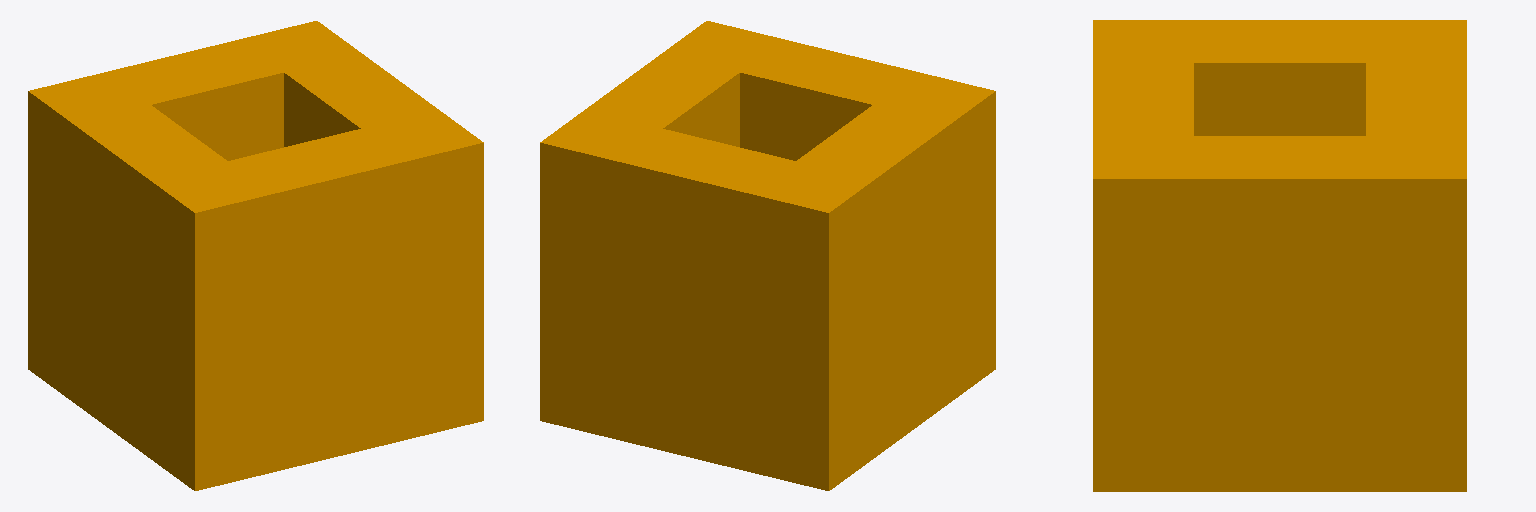
URDF robot description (square_hole):
<?xml version="1.0"?>
<robot name="square_hole">
  <link name="square_hole">
    <visual>
      <origin xyz="0 0 0" rpy="0 0 0"/>
      <geometry>
        <mesh filename="square_hole_adjust.STL"/>
      </geometry>
    </visual>

    <collision>
      <origin xyz="0 0 0" rpy="0 0 0"/>
      <geometry>
        <mesh filename="square_hole_adjust.STL"/>
      </geometry>
    </collision>
  </link>
</robot>

--- What the picture shows (computed from the rendered views, not written in the file) ---
The picture shows the robot from 3 angles, left to right: view 1: azimuth 30°, elevation 25°; view 2: azimuth 150°, elevation 25°; view 3: azimuth 270°, elevation 25°; orthographic projection.
Robot: square_hole — 1 links, 0 joints (none); root link square_hole; default pose: all joints at 0.
Visible links, largest first — view 1: square_hole; view 2: square_hole; view 3: square_hole.
Link boxes in pixels (box(x1,y1,x2,y2)): square_hole: box(28, 21, 483, 490); square_hole: box(540, 21, 995, 490); square_hole: box(1093, 20, 1466, 491).
Bounding box of the posed robot: 1.09 × 1.09 × 1 m (x, y, z).
Meshes: 1 distinct files referenced, 1 mesh visuals loaded (1 binary STL).
